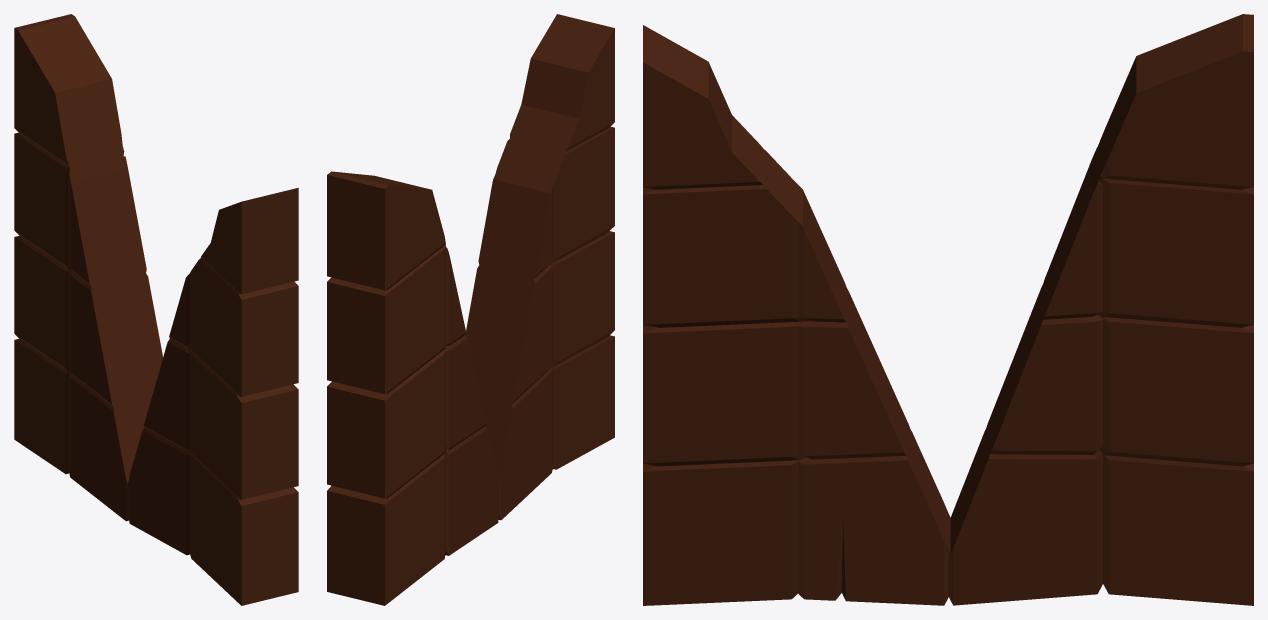
File: PAREDE_03_01.fbx
3 renders of one model, left to right at view 1: azimuth 30°, elevation 25°; view 2: azimuth 150°, elevation 25°; view 3: azimuth 270°, elevation 25°, orthographic. The views are drawn at different scales.
Visible parts, largest first — view 1: Parede_02.001; view 2: Parede_02.001; view 3: Parede_02.001.
Part boxes in pixels (x1,y1,x2,y2): Parede_02.001: [14, 14, 298, 605]; Parede_02.001: [327, 14, 614, 605]; Parede_02.001: [643, 14, 1253, 605].
Bounding box in the file's own units: 32.88 × 200 × 200.
